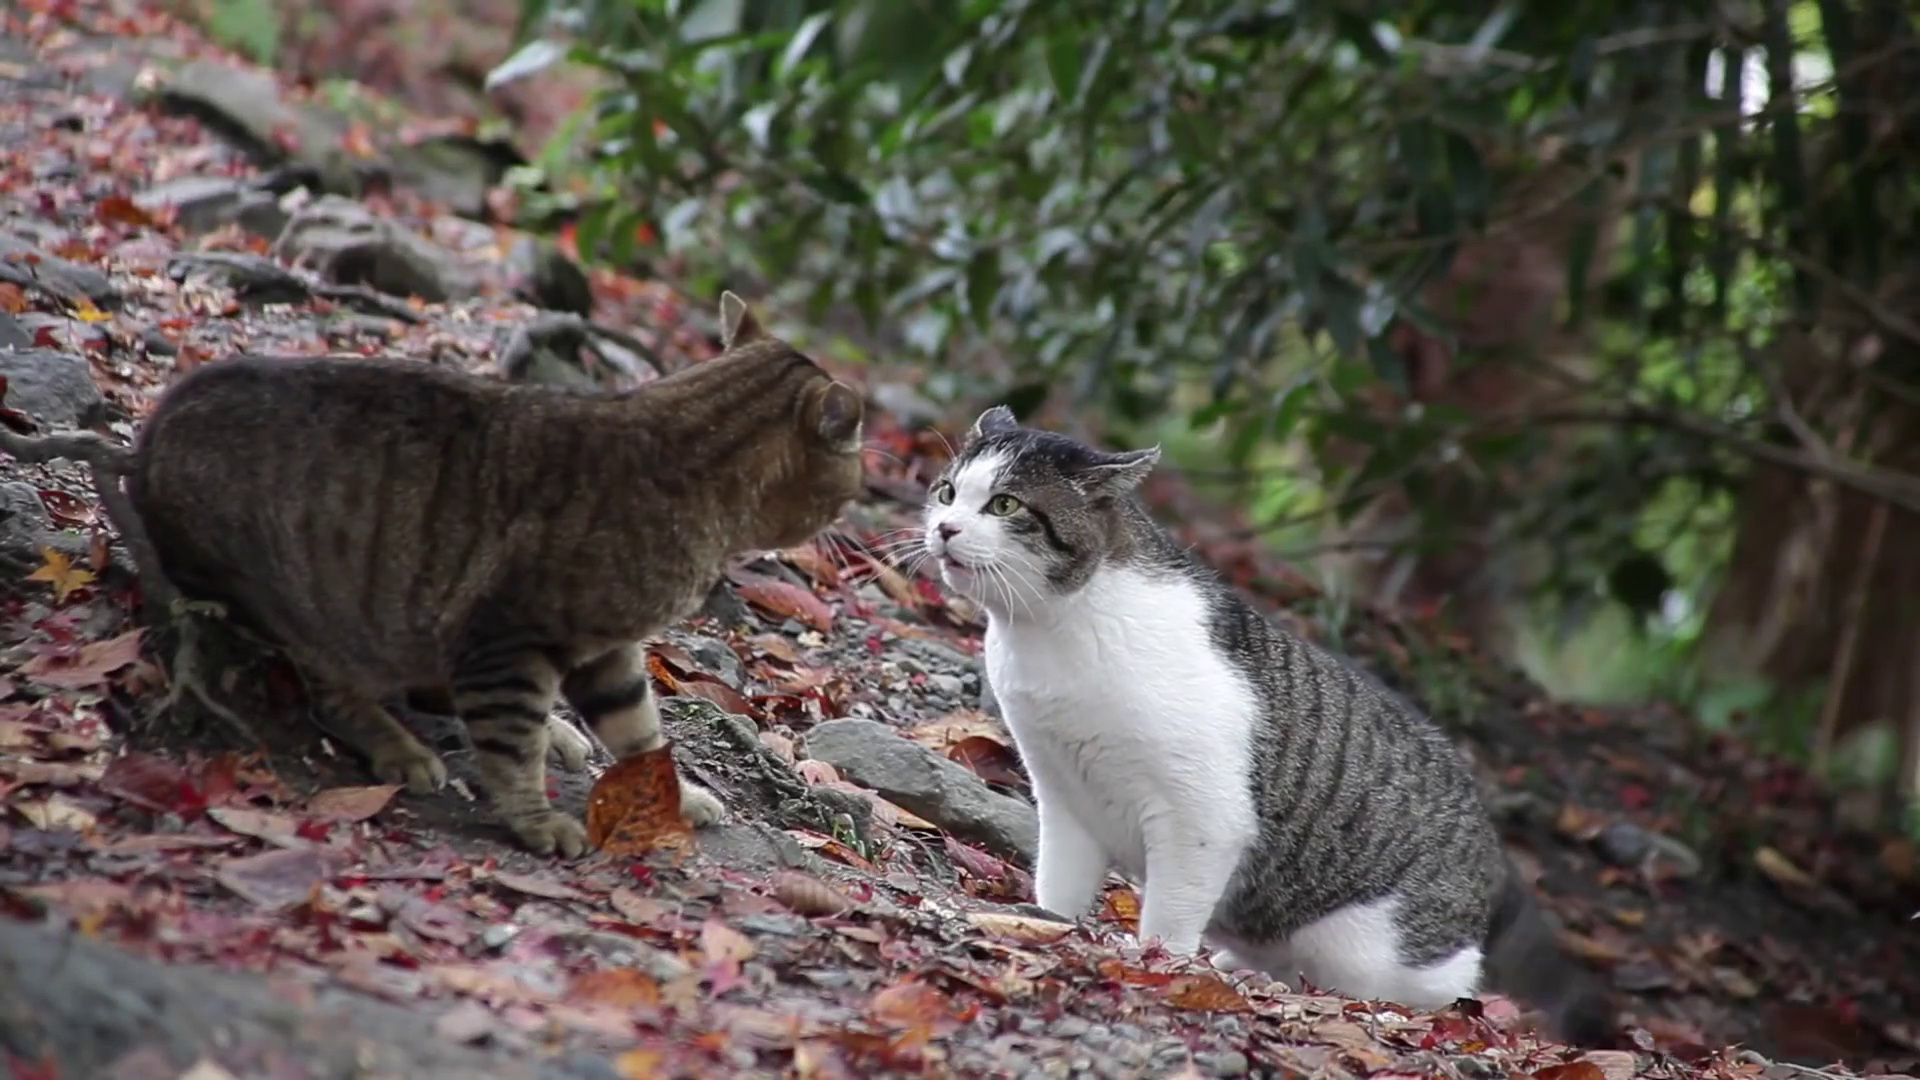black-white: (924, 406, 1487, 1005)
pure black: (141, 290, 860, 862)
